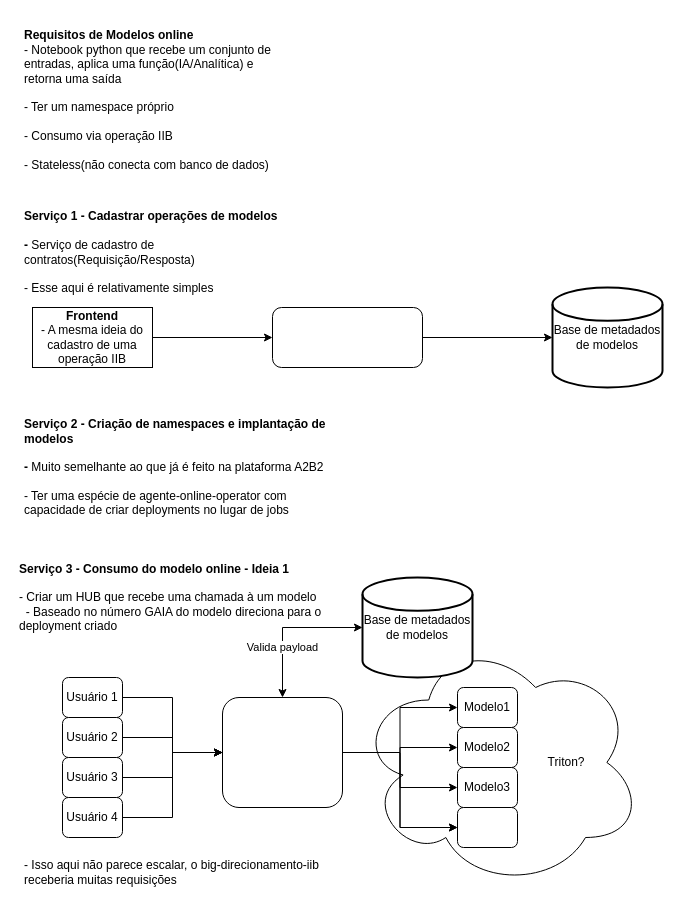
This 680x905 diagram has some shape labels left out. The centre of each missing label's shape, as x and y in pixels:
"Backend - E cadastro de metadados de campos na base" goes at point (347, 337).
"big-direcionamento-ibb É uma operação IIB" goes at point (282, 752).
"Modelo4" goes at point (487, 827).
